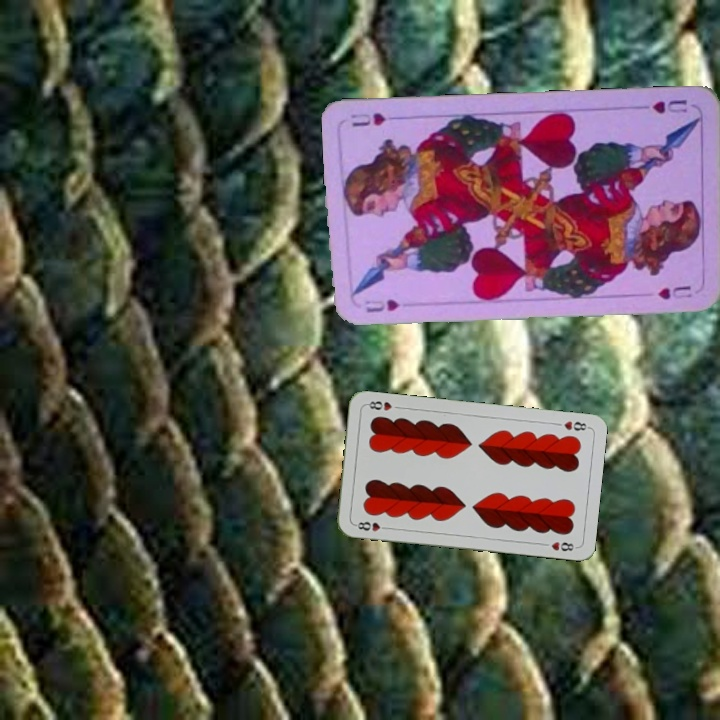H8: (351, 518, 391, 534), (551, 417, 591, 433)
HU: (636, 95, 690, 117), (361, 295, 402, 316)
